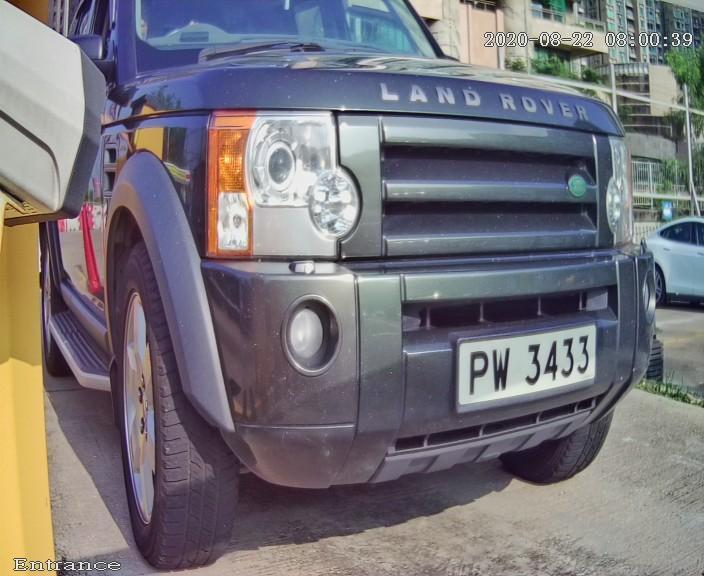License Plate: (456, 319, 598, 412)
